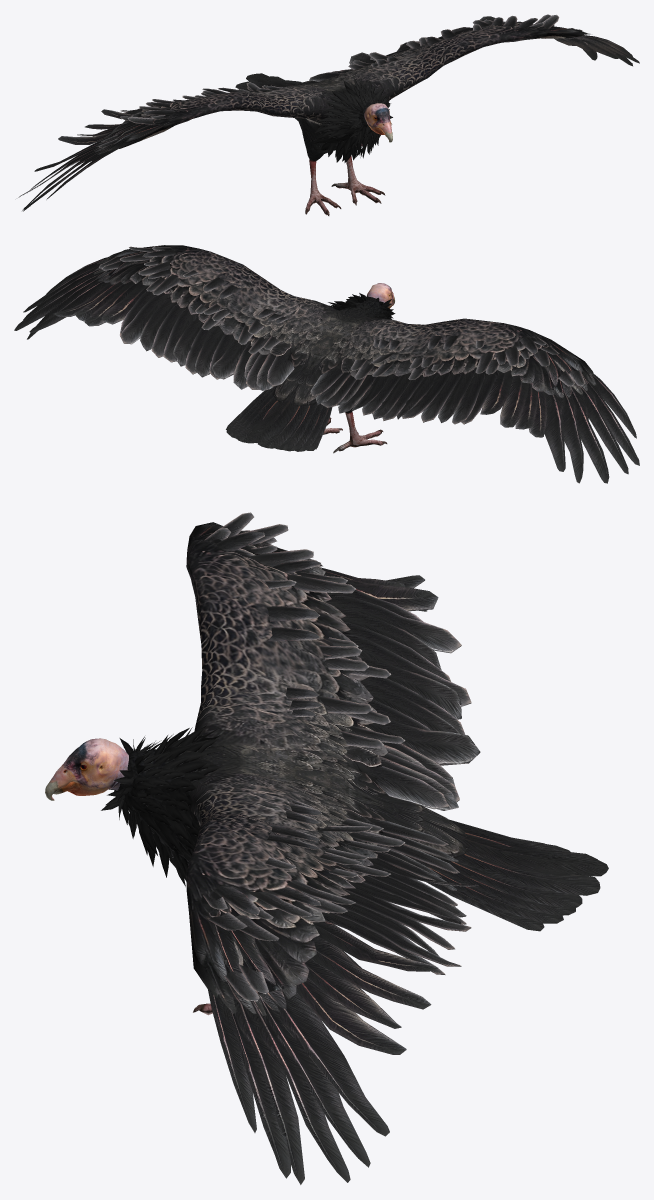
Rendered from sierra.glb.
3 renders of one model, top to bottom at view 1: azimuth 30°, elevation 25°; view 2: azimuth 150°, elevation 25°; view 3: azimuth 270°, elevation 25°, orthographic. The views are drawn at different scales.
Parts seen in each view (by area): view 1: sm_3_0_0_2_7, sm_1_0_0_0_3, sm_2_0_0_1_5; view 2: sm_3_0_0_2_7, sm_1_0_0_0_3, sm_2_0_0_1_5; view 3: sm_3_0_0_2_7, sm_1_0_0_0_3, sm_2_0_0_1_5.
Boxes of the visible parts, x1,y1,x2,y2 form: sm_3_0_0_2_7: [18, 14, 639, 215]; sm_1_0_0_0_3: [313, 78, 392, 162]; sm_2_0_0_1_5: [364, 103, 392, 142]; sm_3_0_0_2_7: [14, 245, 639, 483]; sm_1_0_0_0_3: [328, 293, 395, 319]; sm_2_0_0_1_5: [367, 283, 394, 308]; sm_3_0_0_2_7: [114, 512, 608, 1184]; sm_1_0_0_0_3: [101, 725, 223, 886]; sm_2_0_0_1_5: [45, 738, 128, 800].
Bounding box in the file's own units: 2.67 × 0.5862 × 1.06.
2 materials, 2 textured.
